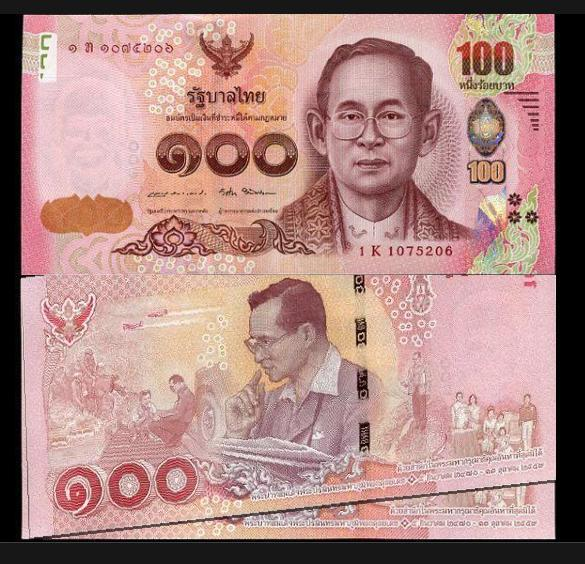100BahtTai: (21, 276, 556, 542)
